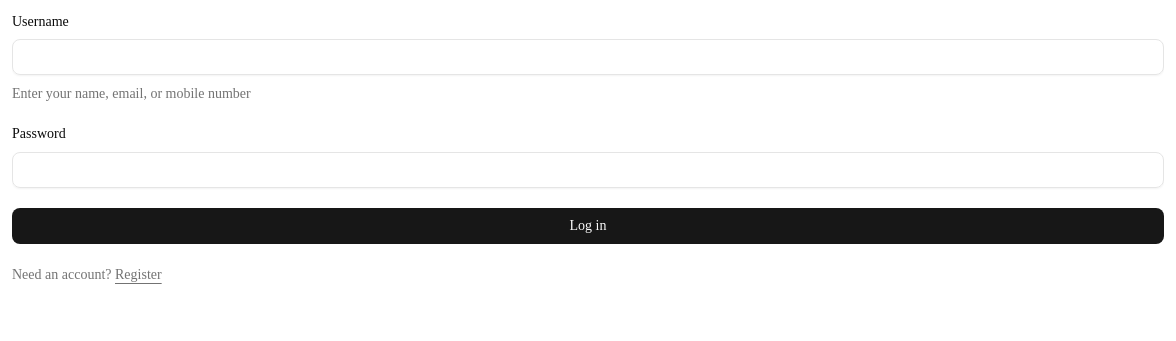
Test: AC-007: Login errors › shows generic error on 401 response
Type "jane@school.edu" into the field labelled "Username" at x=588, y=57, box [12,39,1164,75]
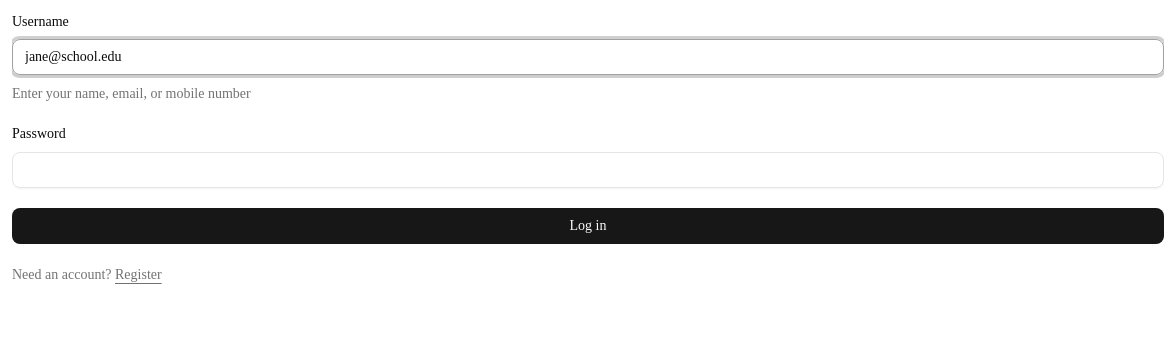
Type "WrongPass123!" into the password field labelled "Password" at x=588, y=170, box [12,152,1164,188]
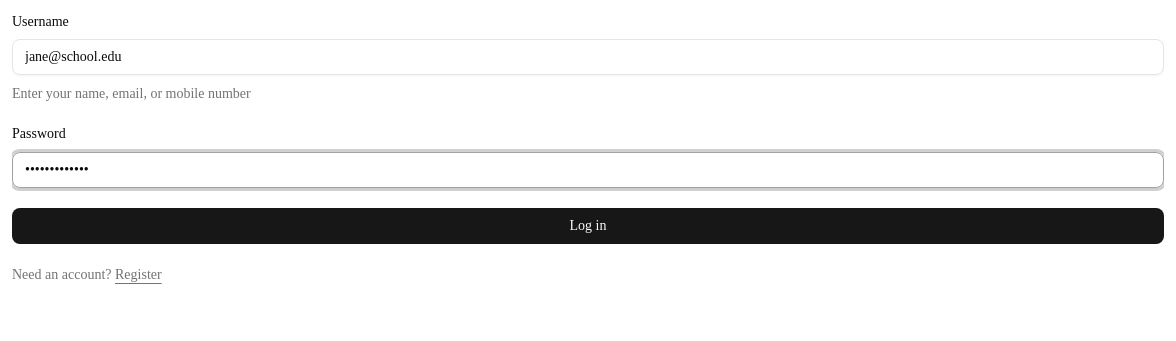
Click the button "Log in" at x=588, y=226, box [12,208,1164,244]
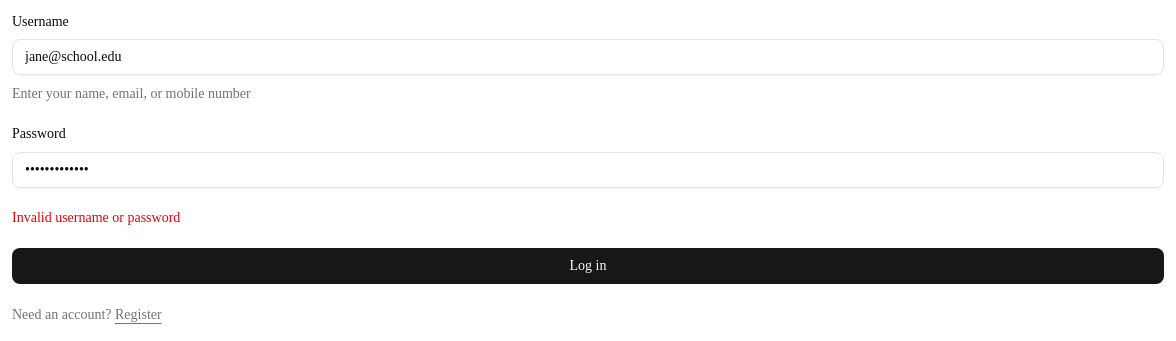
Check: the text "Invalid username or password" is shown, box [12,210,180,224]
